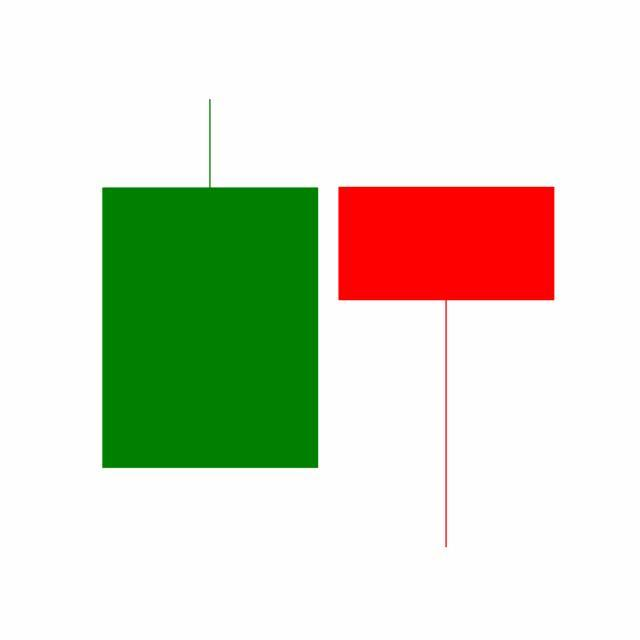Hammer: (328, 184, 566, 553)
